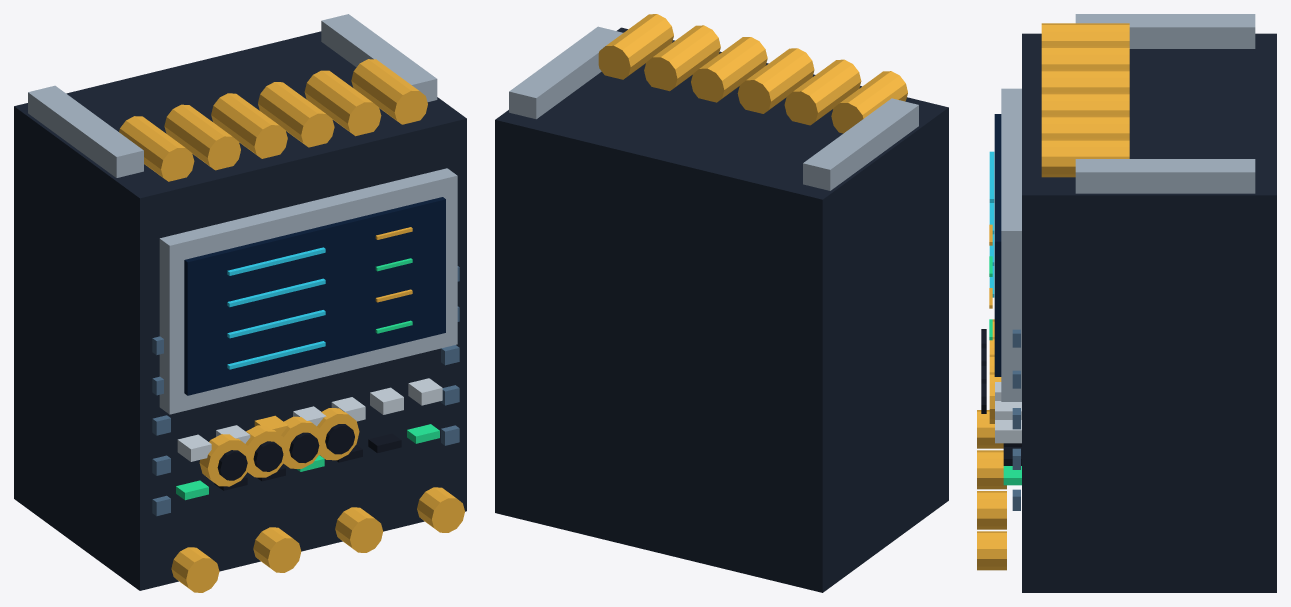
File: 33_L85_ThrusterFlowAndPressureMonitor.fbx
The picture shows the model from 3 angles, left to right: view 1: azimuth 30°, elevation 25°; view 2: azimuth 150°, elevation 25°; view 3: azimuth 270°, elevation 25°; orthographic projection.
Parts seen in each view (by area): view 1: L85_ThrusterFlowAndPressureMonitor, L85_ThrusterFlowAndPressureMonitor_Part_0010, L85_ThrusterFlowAndPressureMonitor_Part_0012, L85_ThrusterFlowAndPressureMonitor_Part_0014, L85_ThrusterFlowAndPressureMonitor_Part_0016, L85_ThrusterFlowAndPressureMonitor_Part_0017, L85_ThrusterFlowAndPressureMonitor_Part_0013, L85_ThrusterFlowAndPressureMonitor_Part_0011, L85_ThrusterFlowAndPressureMonitor_Part_0015; view 2: L85_ThrusterFlowAndPressureMonitor; view 3: L85_ThrusterFlowAndPressureMonitor.
Part boxes in pixels (x1=…): L85_ThrusterFlowAndPressureMonitor: x1=14, y1=14, x2=466, y2=592; L85_ThrusterFlowAndPressureMonitor_Part_0010: x1=199, y1=434, x2=251, y2=486; L85_ThrusterFlowAndPressureMonitor_Part_0012: x1=245, y1=425, x2=287, y2=477; L85_ThrusterFlowAndPressureMonitor_Part_0014: x1=281, y1=416, x2=323, y2=468; L85_ThrusterFlowAndPressureMonitor_Part_0016: x1=317, y1=408, x2=359, y2=460; L85_ThrusterFlowAndPressureMonitor_Part_0017: x1=325, y1=424, x2=354, y2=454; L85_ThrusterFlowAndPressureMonitor_Part_0013: x1=253, y1=441, x2=283, y2=471; L85_ThrusterFlowAndPressureMonitor_Part_0011: x1=217, y1=450, x2=247, y2=480; L85_ThrusterFlowAndPressureMonitor_Part_0015: x1=289, y1=432, x2=319, y2=463; L85_ThrusterFlowAndPressureMonitor: x1=495, y1=14, x2=948, y2=592; L85_ThrusterFlowAndPressureMonitor: x1=977, y1=14, x2=1276, y2=592.
Size of the model in its own units: 95.88 by 119 by 75.2.
